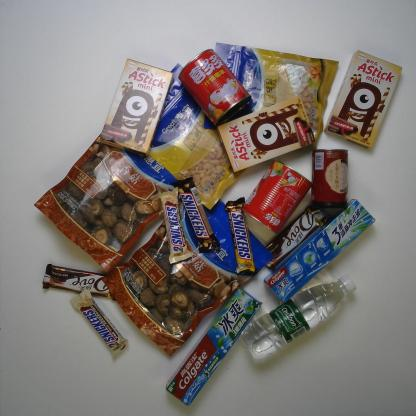Canned Food: (178, 48, 250, 127), (240, 159, 312, 234), (311, 150, 349, 209)
Chocolate: (256, 203, 330, 274), (70, 288, 129, 358), (173, 176, 220, 254), (42, 264, 126, 301), (158, 186, 194, 264), (224, 197, 256, 274)
Dessert: (215, 97, 317, 172), (324, 51, 402, 148), (100, 58, 174, 156)
Dried Food: (102, 180, 274, 358), (35, 102, 205, 274)
Dried Fruit: (118, 62, 265, 210), (204, 42, 340, 149)
Drink: (239, 275, 356, 359)
Personal Hygiene: (264, 199, 376, 306), (166, 284, 263, 406)
